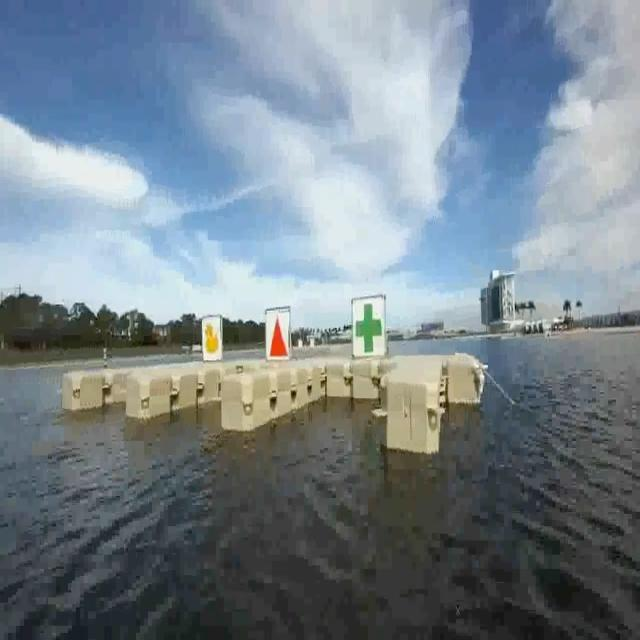blue-cross: (354, 304, 384, 356)
red-dot: (267, 310, 292, 366)
yellow-duck: (201, 312, 224, 362)
